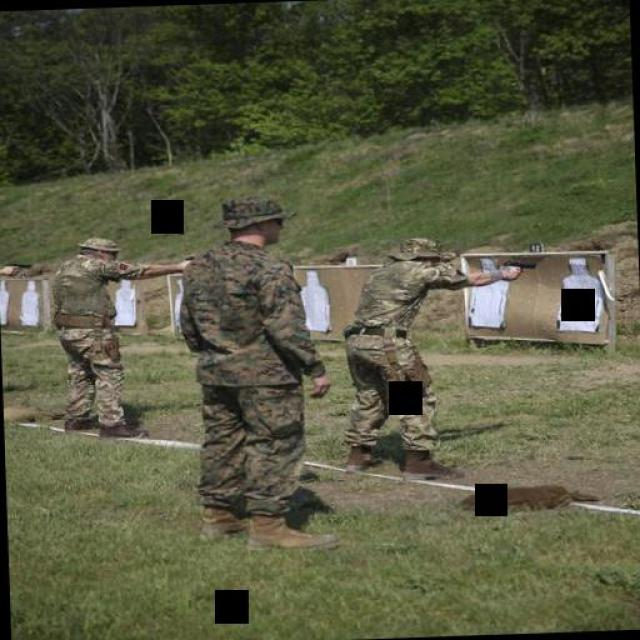gun: (495, 255, 541, 279)
